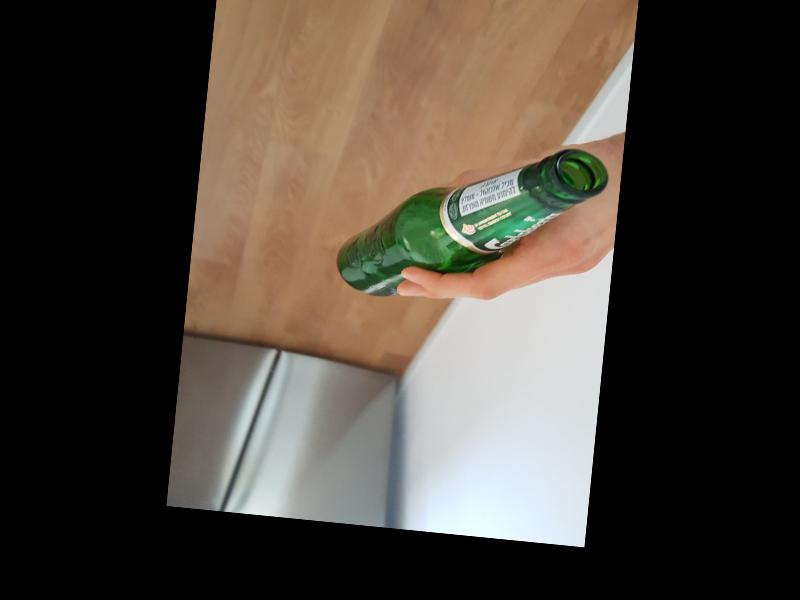Beer: (333, 125, 611, 316)
